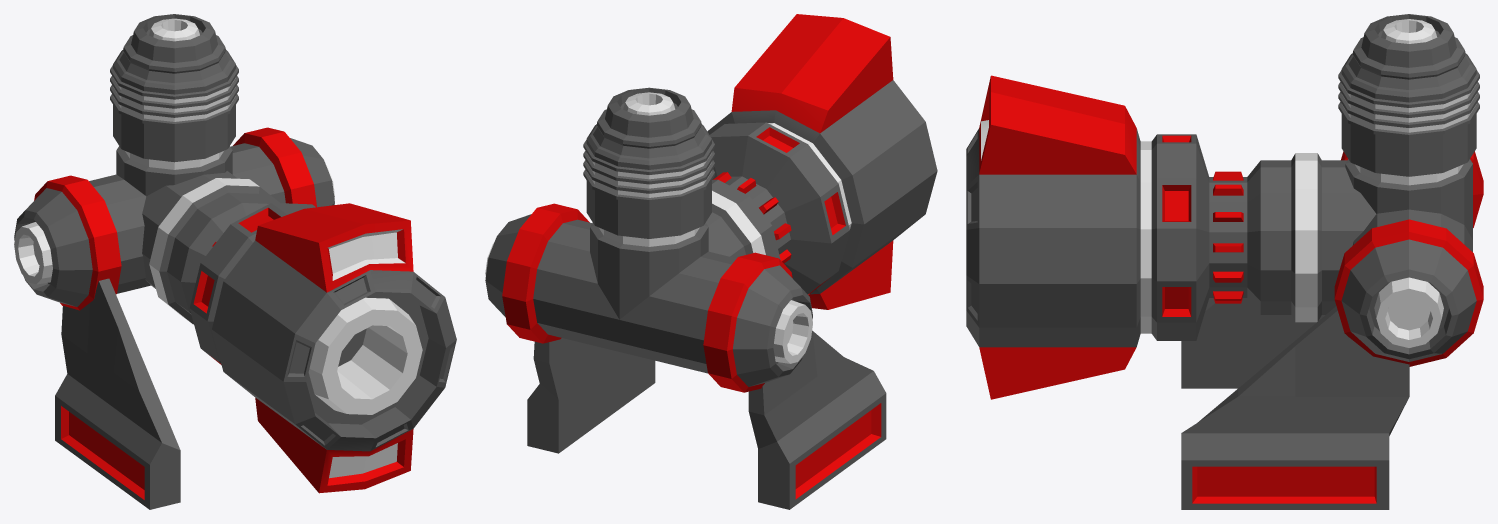
The model's file is tower3_2.fbx.
The picture shows the model from 3 angles, left to right: view 1: azimuth 30°, elevation 25°; view 2: azimuth 150°, elevation 25°; view 3: azimuth 270°, elevation 25°; orthographic projection. The views are drawn at different scales.
Parts seen in each view (by area): view 1: polySurface127; view 2: polySurface127; view 3: polySurface127.
Part boxes in pixels (x1,y1,x2,y2): polySurface127: (14, 14, 456, 509); polySurface127: (485, 14, 937, 509); polySurface127: (966, 14, 1483, 509).
Bounding box in the file's own units: 0.518 × 0.6414 × 0.7261.
